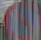No parking: (2, 1, 39, 39)
